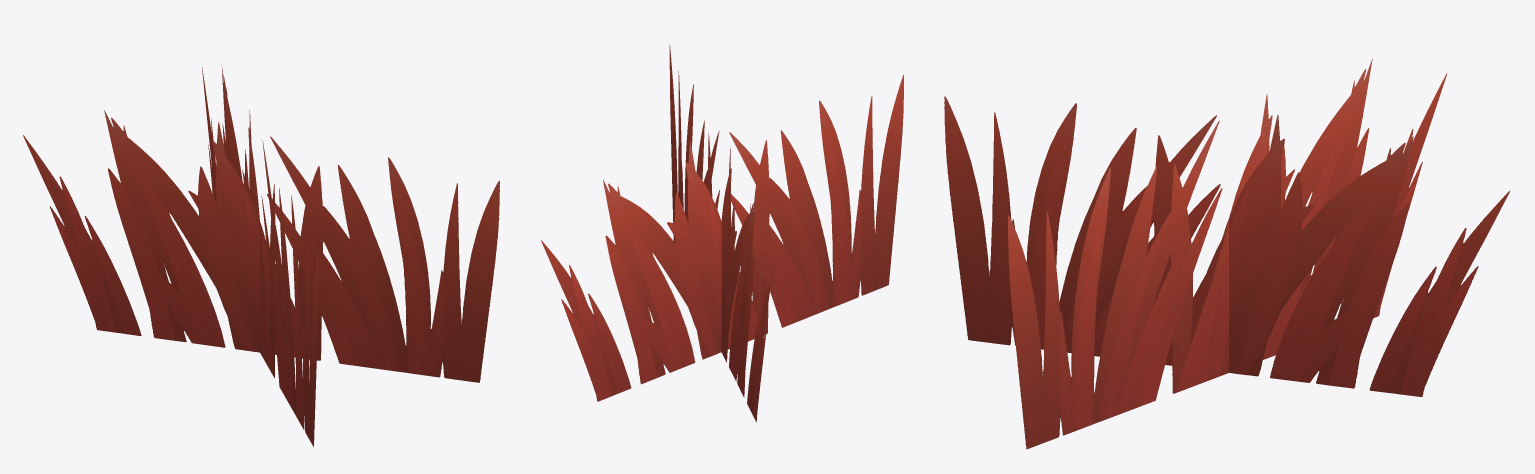
The model's file is garden_grass.glb.
3 views of the same model, side by side, from view 1: azimuth 30°, elevation 25°; view 2: azimuth 150°, elevation 25°; view 3: azimuth 270°, elevation 25° (orthographic). The views are drawn at different scales.
Parts seen in each view (by area): view 1: stylizedGrass01b.018; view 2: stylizedGrass01b.018; view 3: stylizedGrass01b.018.
Boxes of the visible parts, x1=… form: stylizedGrass01b.018: x1=23, y1=64, x2=499, y2=446; stylizedGrass01b.018: x1=541, y1=44, x2=903, y2=422; stylizedGrass01b.018: x1=944, y1=58, x2=1510, y2=449.
Bounding box in the file's own units: 3.89 × 2.9 × 5.59.
1 material, 1 textured.
